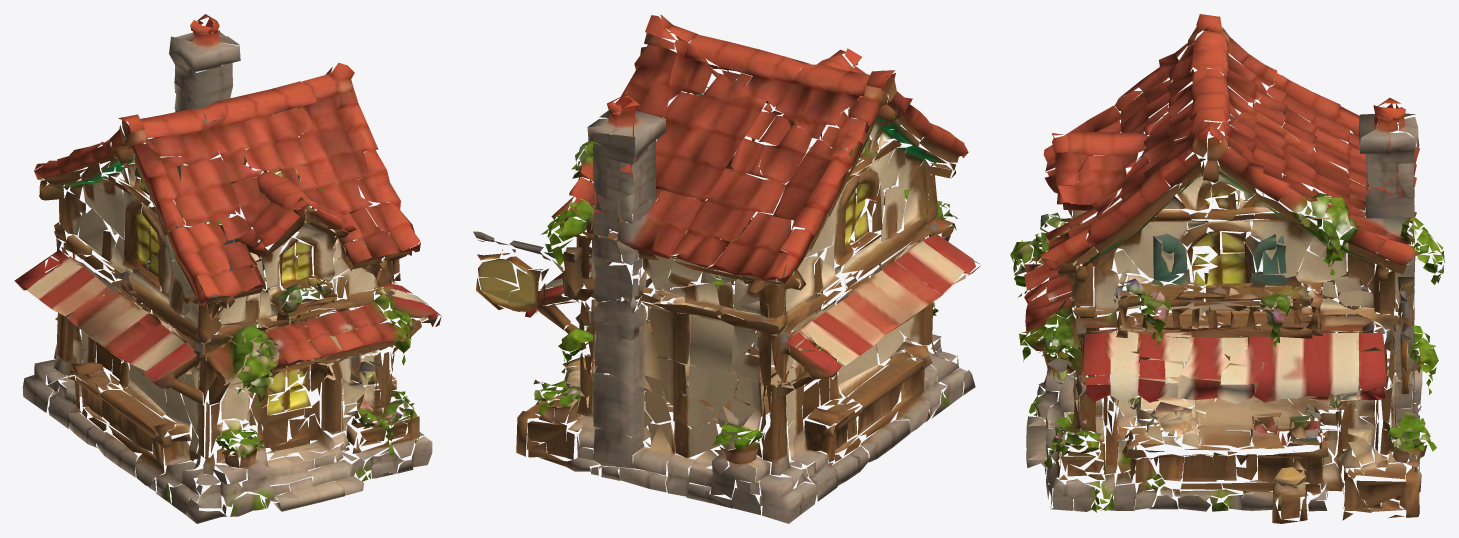
Rendered from rival-mobile-v2.glb.
3 views of the same model, side by side, from view 1: azimuth 30°, elevation 25°; view 2: azimuth 150°, elevation 25°; view 3: azimuth 270°, elevation 25° (orthographic). The views are drawn at different scales.
Parts seen in each view (by area): view 1: tripo_node_de069fea-f0c4-4b94-9f90-18cdb7ae6047; view 2: tripo_node_de069fea-f0c4-4b94-9f90-18cdb7ae6047; view 3: tripo_node_de069fea-f0c4-4b94-9f90-18cdb7ae6047.
Part boxes in pixels (x1,y1,x2,y2): tripo_node_de069fea-f0c4-4b94-9f90-18cdb7ae6047: (14,14,441,523); tripo_node_de069fea-f0c4-4b94-9f90-18cdb7ae6047: (473,14,980,523); tripo_node_de069fea-f0c4-4b94-9f90-18cdb7ae6047: (1010,14,1444,523).
Size of the model in its own units: 4.67 by 4.84 by 5.01.
Materials: 1 (1 with a texture image).
